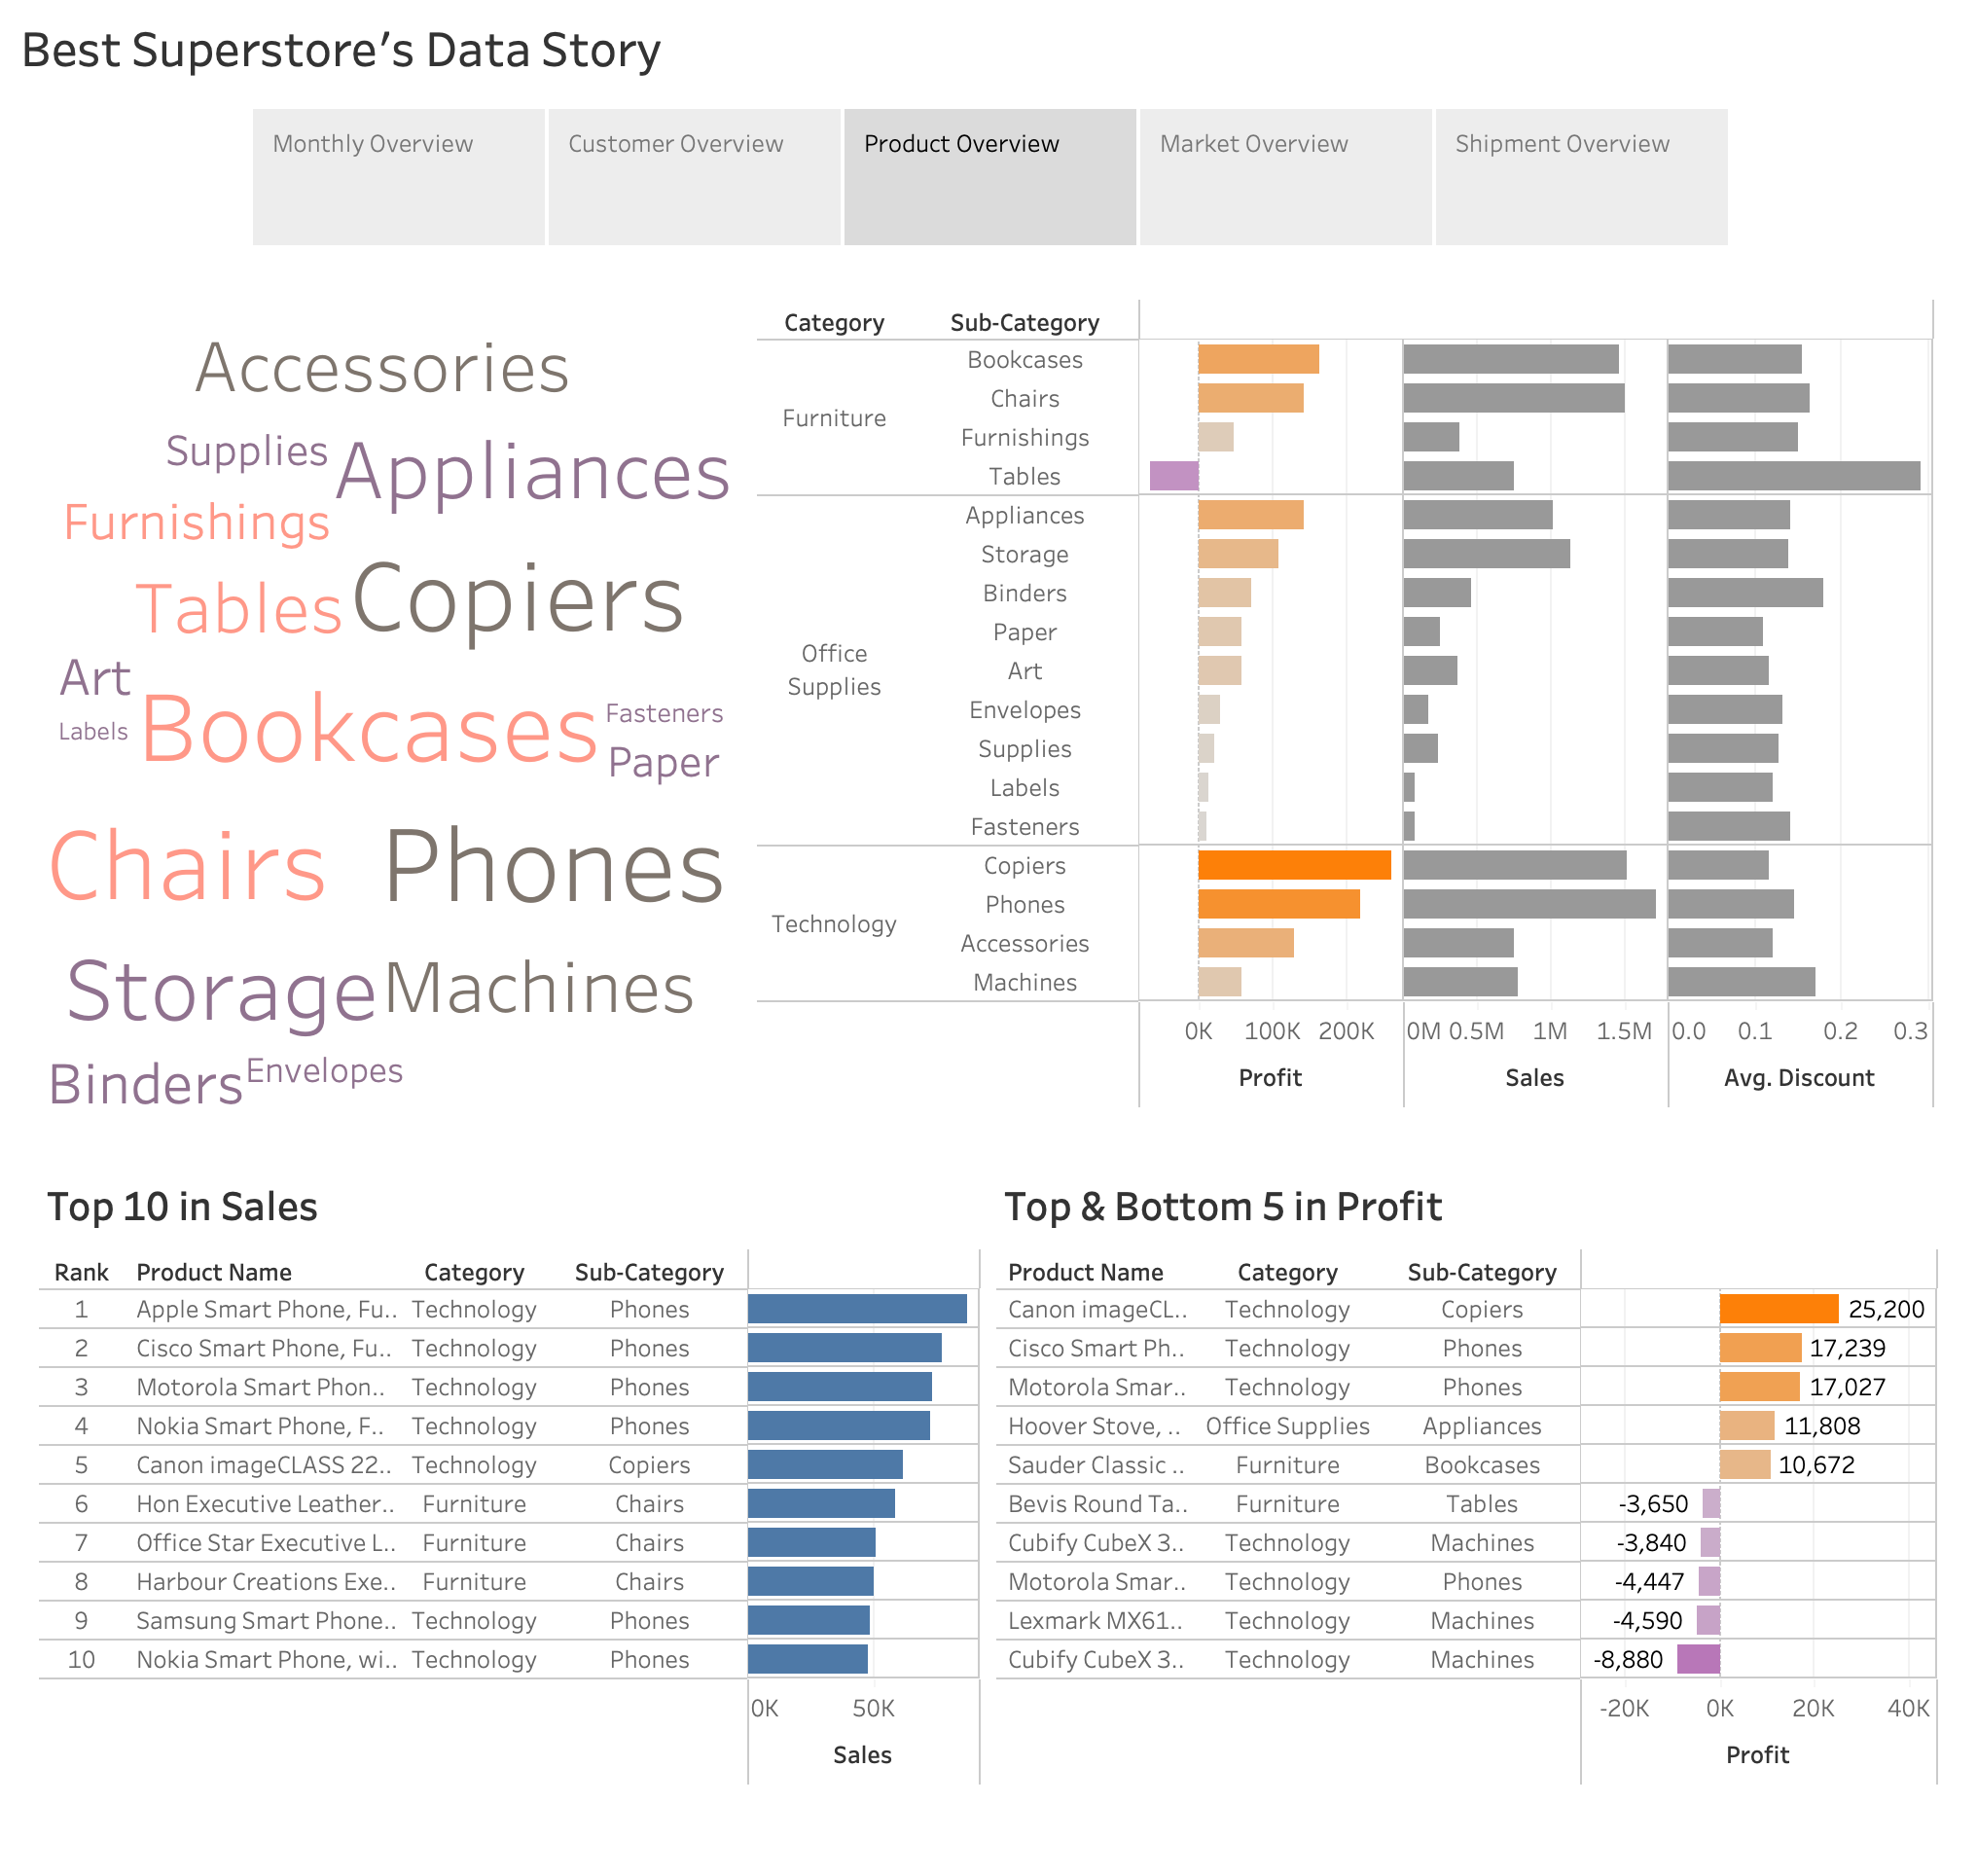

This screenshot's page, from the dashboard's own definition file:
{"tool":"tableau","page":{"name":"Product Overview","canvas":[1000,800],"ordinal":3},"visuals":[{"type":"worksheet","title":"Word Cloud","mark":"Text","box":[8,8,369,445]},{"type":"worksheet","title":"Profit by Category","mark":"Automatic","rows":["Category","Sub-Category"],"cols":["Profit","Sales","Discount"],"box":[377,8,615,445]},{"type":"worksheet","title":"Top 10 in Sales","mark":"Automatic","rows":["Calculation_1781173714176602154","Product Name","Category","Sub-Category"],"cols":["Sales"],"box":[8,453,492,339]},{"type":"worksheet","title":"Top & Bottom 5 in Profit","mark":"Automatic","rows":["Product Name","Category","Sub-Category"],"cols":["Profit"],"box":[500,453,492,339]}]}

Visuals, with their boxes on the page's 1000x800 design canvas (x1, y1, x2, y2). These are canvas units, not pixel positions in the 1977x1876 screenshot, which may show the page scaled, cropped or inside an application window:
"Word Cloud" worksheet (Text marks): locate(8, 8, 377, 453)
"Profit by Category" worksheet: locate(377, 8, 992, 453)
"Top 10 in Sales" worksheet: locate(8, 453, 500, 792)
"Top & Bottom 5 in Profit" worksheet: locate(500, 453, 992, 792)
